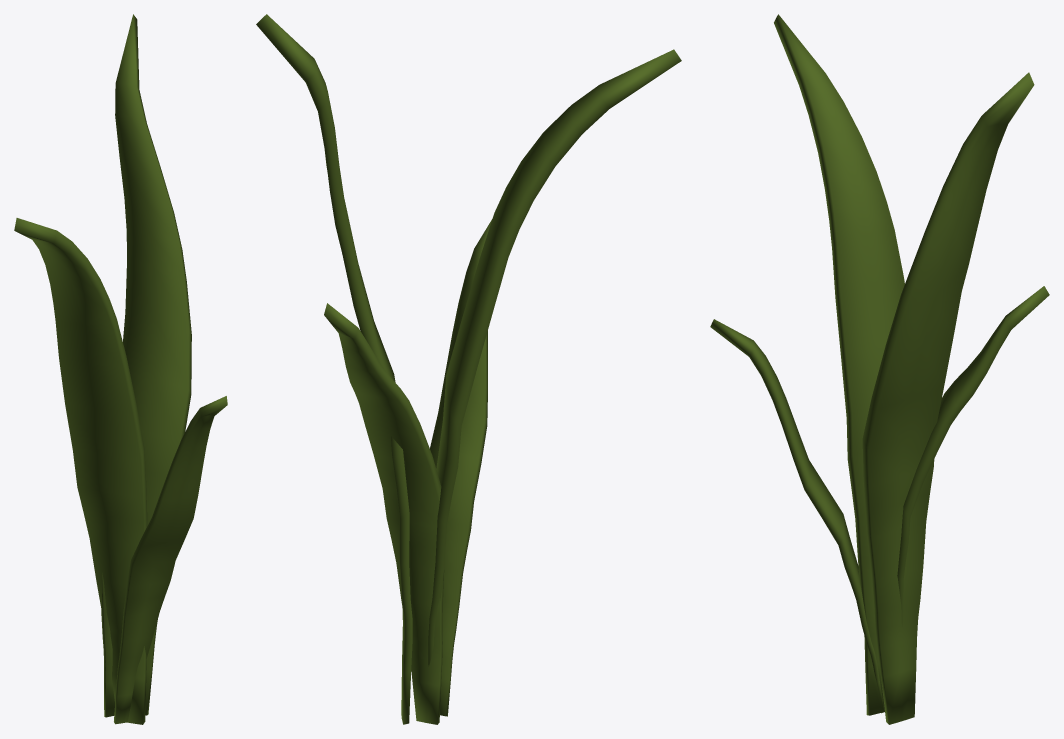
Rendered from AngryPlant.fbx.
The picture shows the model from 3 angles, left to right: view 1: azimuth 30°, elevation 25°; view 2: azimuth 150°, elevation 25°; view 3: azimuth 270°, elevation 25°; orthographic projection. The views are drawn at different scales.
Visible parts, largest first — view 1: AngryPlant; view 2: AngryPlant; view 3: AngryPlant.
Boxes of the visible parts, <box> form: AngryPlant: <box>14,14,227,724</box>; AngryPlant: <box>256,14,681,724</box>; AngryPlant: <box>710,14,1049,724</box>.
Bounding box in the file's own units: 41.07 × 102 × 46.29.
